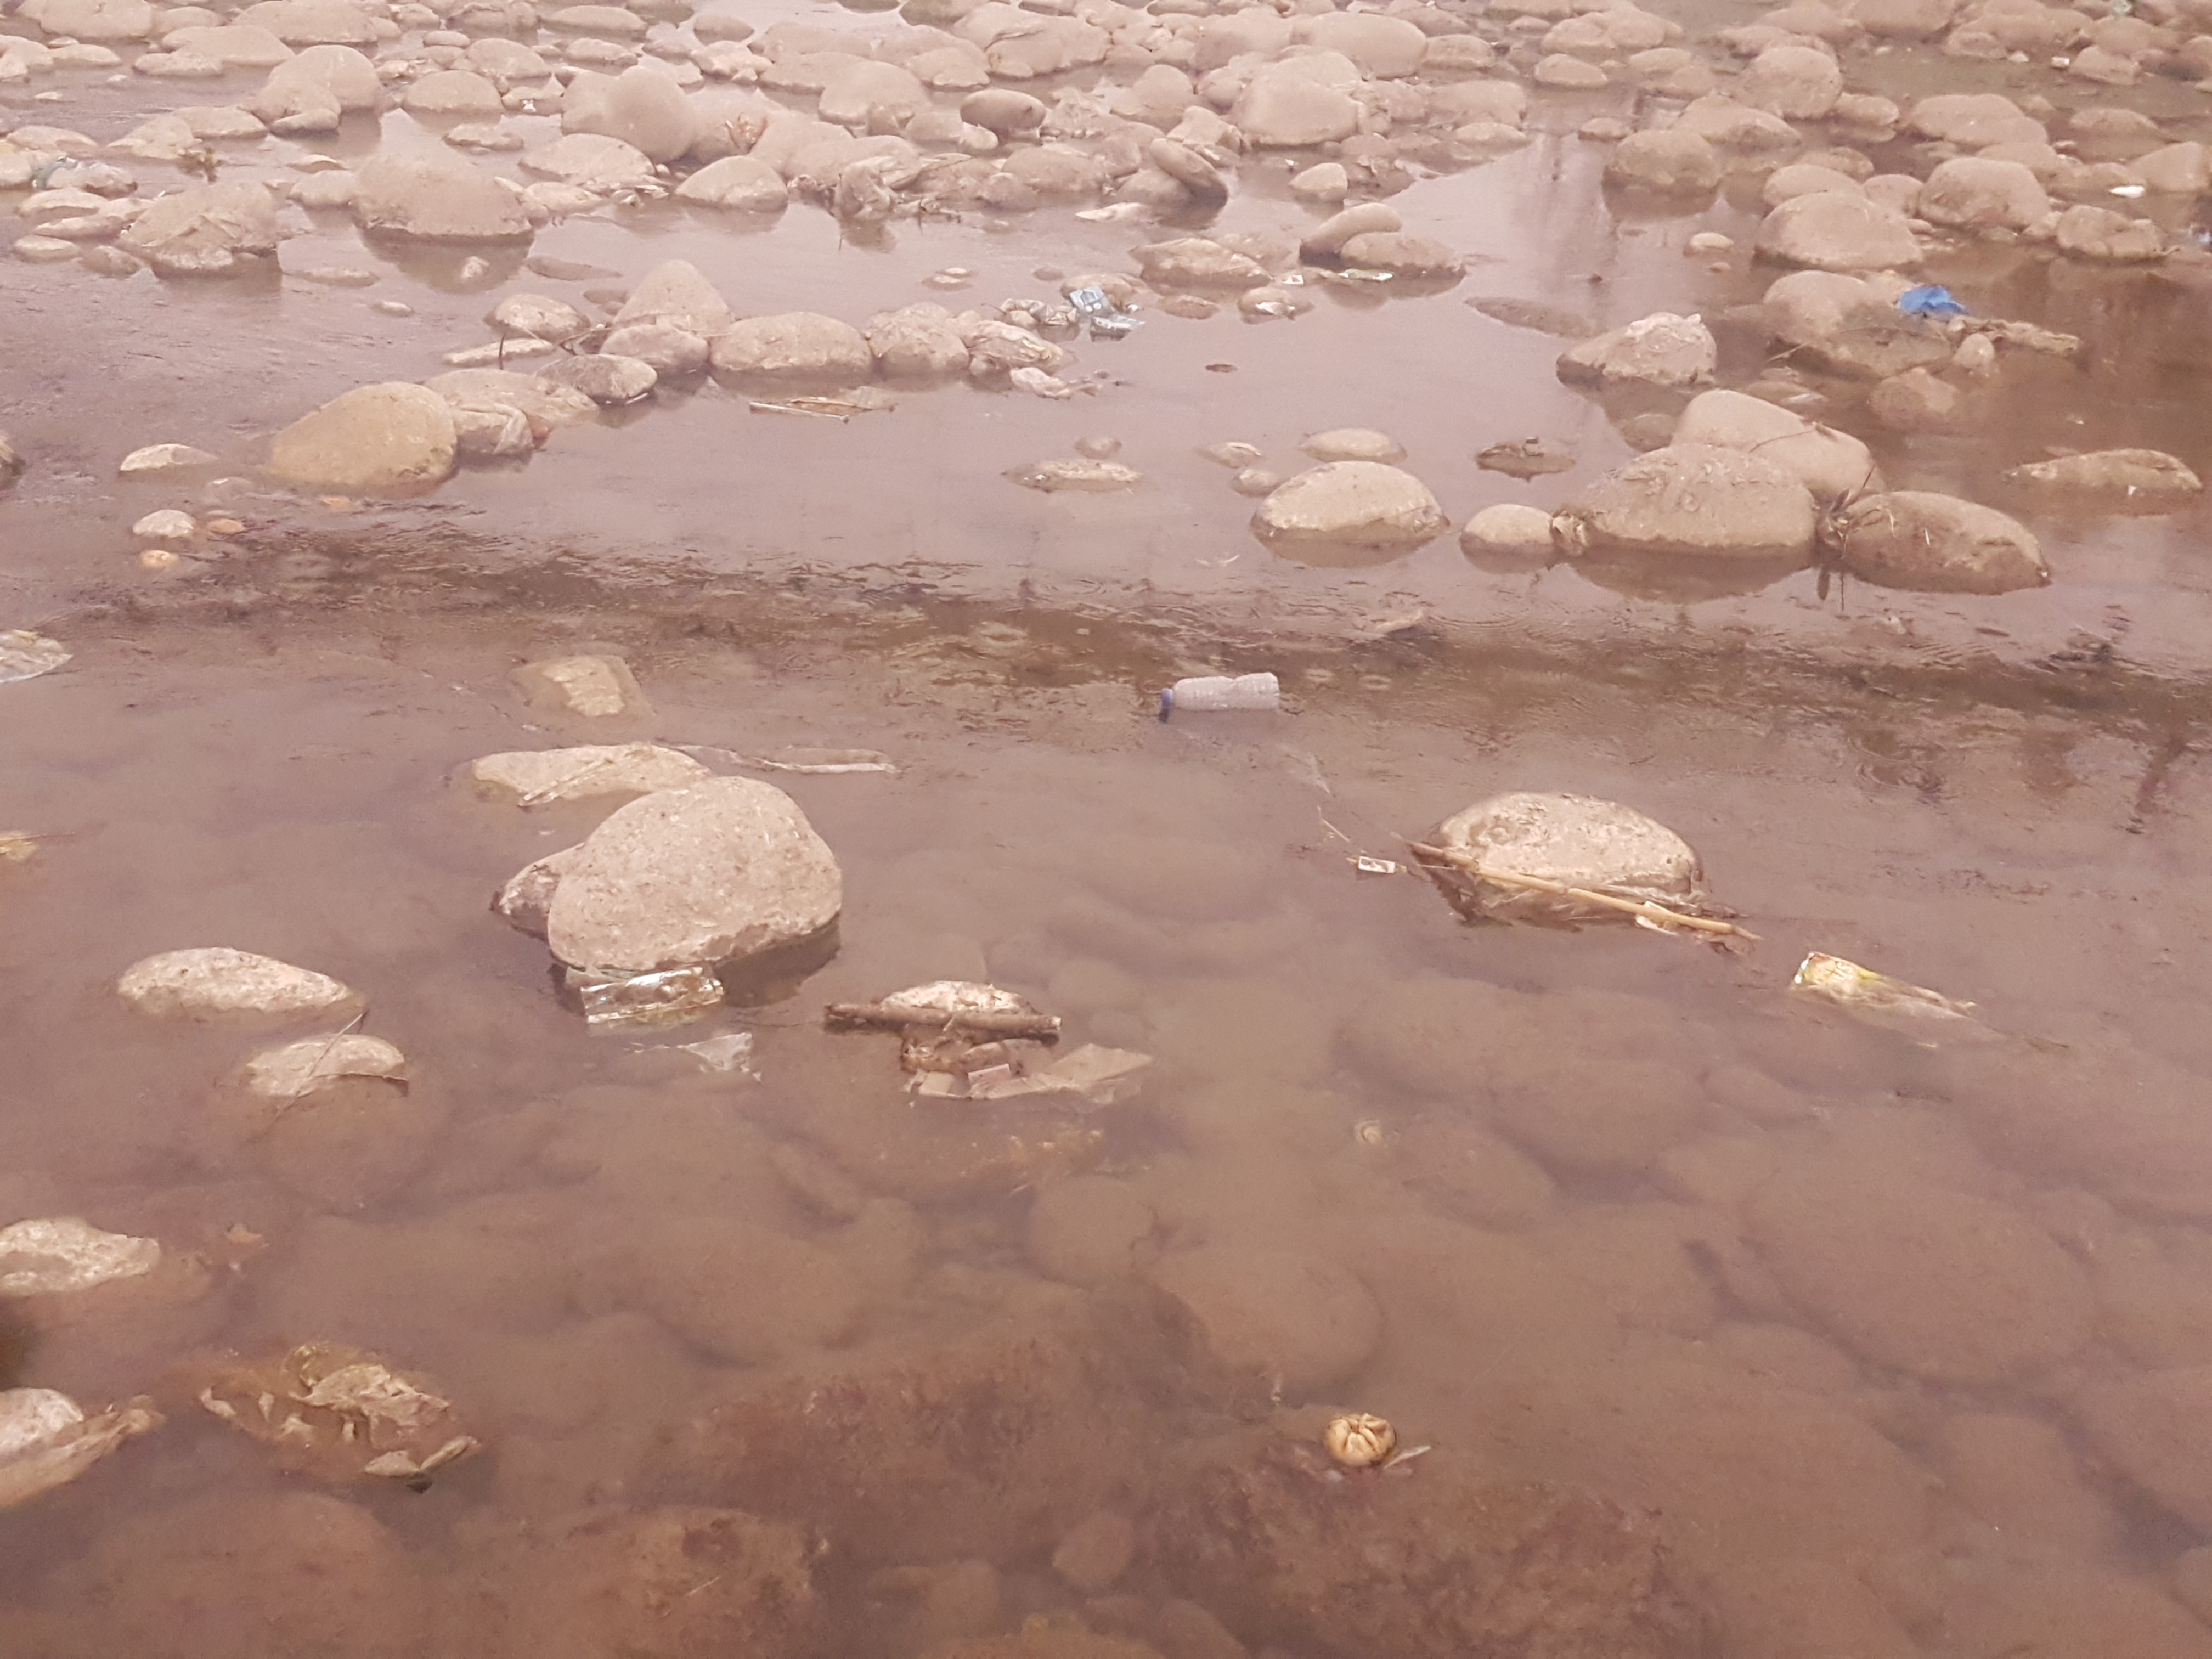Plastic Bottle: (1163, 671, 1280, 706), (1010, 366, 1071, 399)
